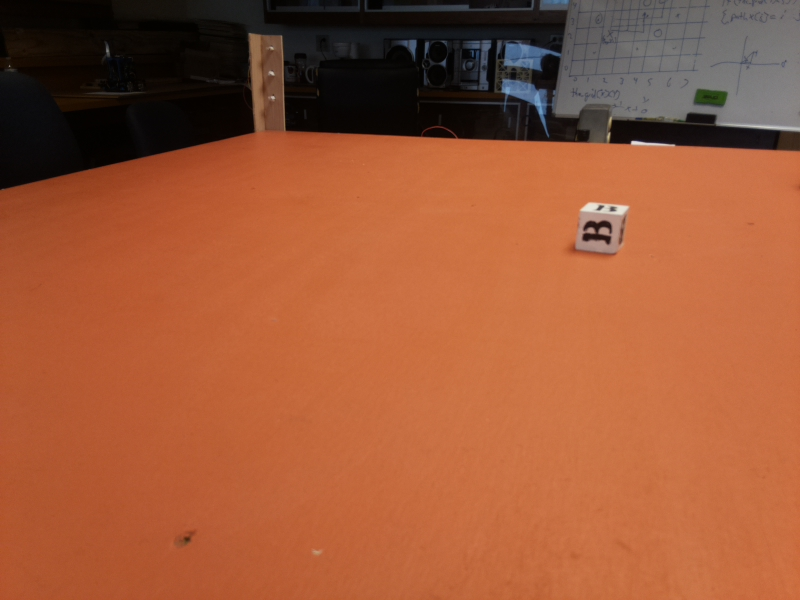blockB: (566, 198, 635, 262)
corner: (248, 33, 288, 132)
